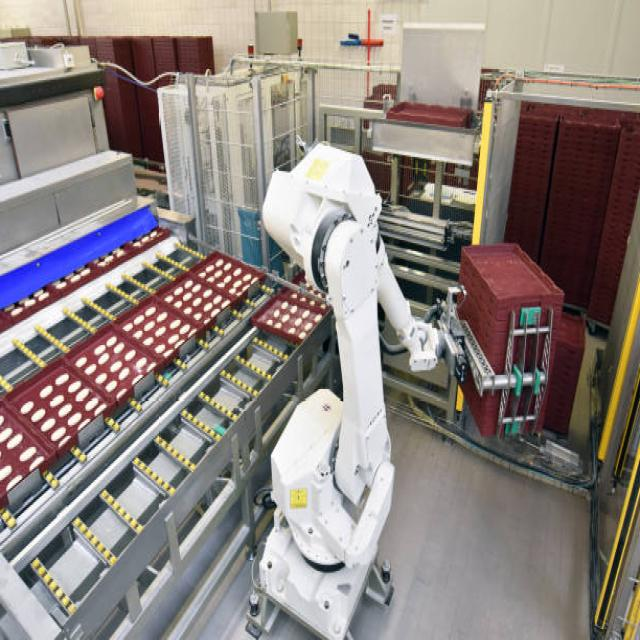Robotic-arm: (257, 133, 453, 640)
